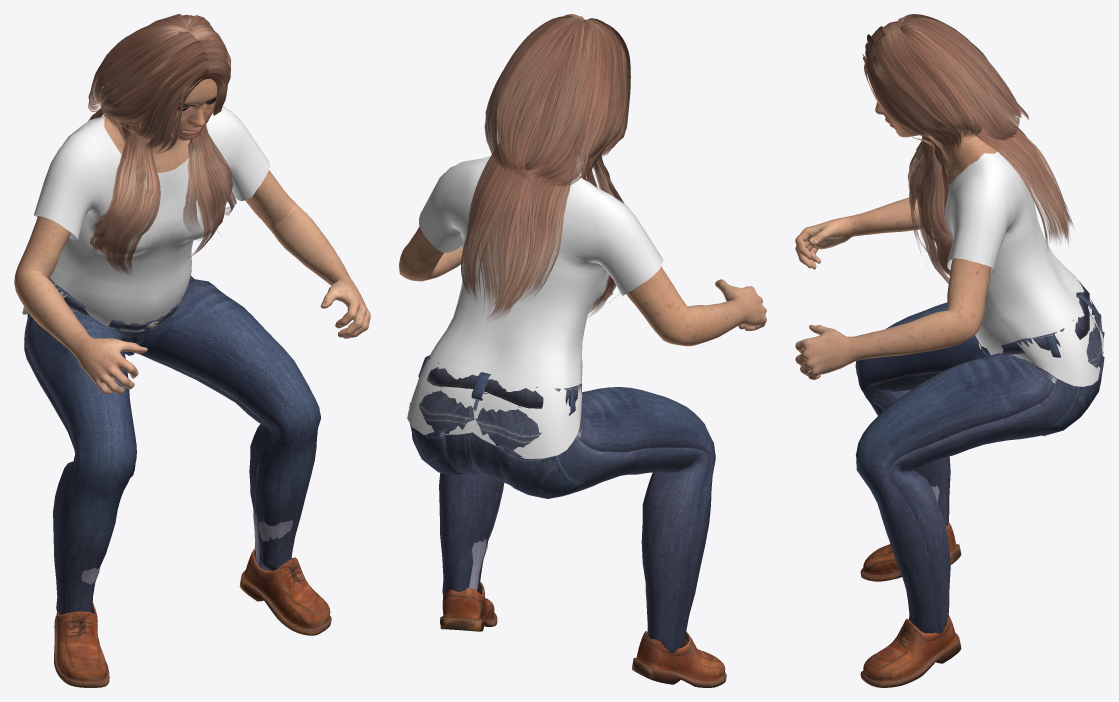
Rendered from donna-05.glb.
The picture shows the model from 3 angles, left to right: view 1: azimuth 30°, elevation 25°; view 2: azimuth 150°, elevation 25°; view 3: azimuth 270°, elevation 25°; orthographic projection. The views are drawn at different scales.
Parts seen in each view (by area): view 1: Human.punkduck_female_tight_jeans, Human.joepal_crude_t-shirt_female, Human.elvs_daisy_hair, Human, Human.shoes01; view 2: Human.punkduck_female_tight_jeans, Human.joepal_crude_t-shirt_female, Human.elvs_daisy_hair, Human, Human.shoes01; view 3: Human.punkduck_female_tight_jeans, Human.elvs_daisy_hair, Human.joepal_crude_t-shirt_female, Human, Human.shoes01.
Part boxes in pixels (left/top/right/bottom): Human.punkduck_female_tight_jeans: left=24, top=269, right=320, bottom=614; Human.joepal_crude_t-shirt_female: left=22, top=106, right=270, bottom=331; Human.elvs_daisy_hair: left=88, top=14, right=236, bottom=275; Human: left=14, top=33, right=370, bottom=394; Human.shoes01: left=54, top=509, right=331, bottom=687; Human.punkduck_female_tight_jeans: left=409, top=355, right=715, bottom=652; Human.joepal_crude_t-shirt_female: left=407, top=156, right=663, bottom=458; Human.elvs_daisy_hair: left=461, top=14, right=630, bottom=319; Human: left=399, top=75, right=766, bottom=346; Human.shoes01: left=440, top=538, right=726, bottom=687; Human.punkduck_female_tight_jeans: left=855, top=280, right=1104, bottom=633; Human.elvs_daisy_hair: left=862, top=14, right=1073, bottom=283; Human.joepal_crude_t-shirt_female: left=937, top=149, right=1103, bottom=386; Human: left=795, top=102, right=997, bottom=379; Human.shoes01: left=860, top=485, right=961, bottom=687.
Bounding box in the file's own units: 0.6231 × 1.28 × 0.5899.
13 materials, 13 textured.
